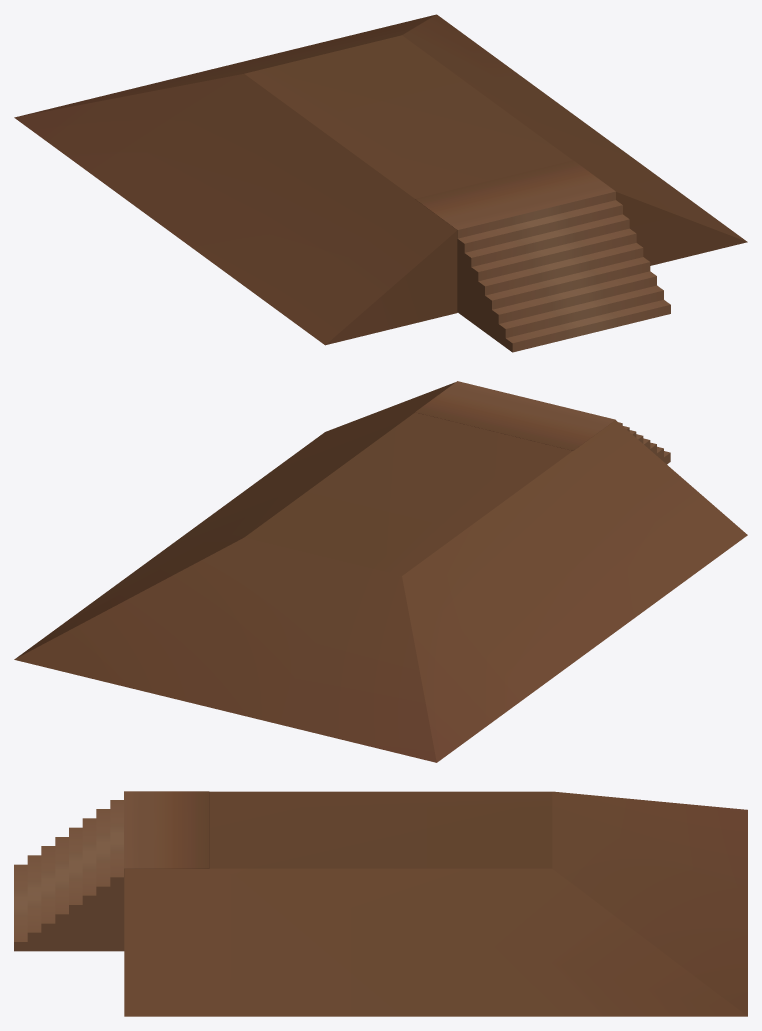
Rendered from SkateboardPyramidStairset.glb.
3 renders of one model, top to bottom at view 1: azimuth 30°, elevation 25°; view 2: azimuth 150°, elevation 25°; view 3: azimuth 270°, elevation 25°, orthographic.
Parts seen in each view (by area): view 1: SkateboardPyramidStairset; view 2: SkateboardPyramidStairset; view 3: SkateboardPyramidStairset.
Boxes of the visible parts, x1,y1,x2,y2 form: SkateboardPyramidStairset: [14, 14, 747, 352]; SkateboardPyramidStairset: [14, 381, 747, 762]; SkateboardPyramidStairset: [14, 791, 747, 1016].
Bounding box in the file's own units: 10.68 × 2 × 16.02.
Materials: 1 (1 with a texture image).
